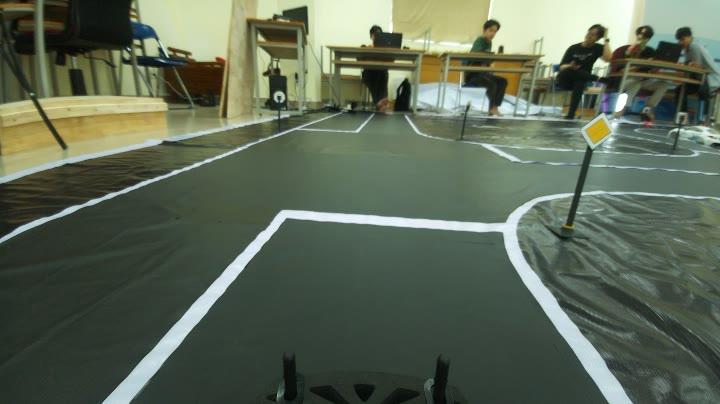priority: (578, 110, 615, 146)
